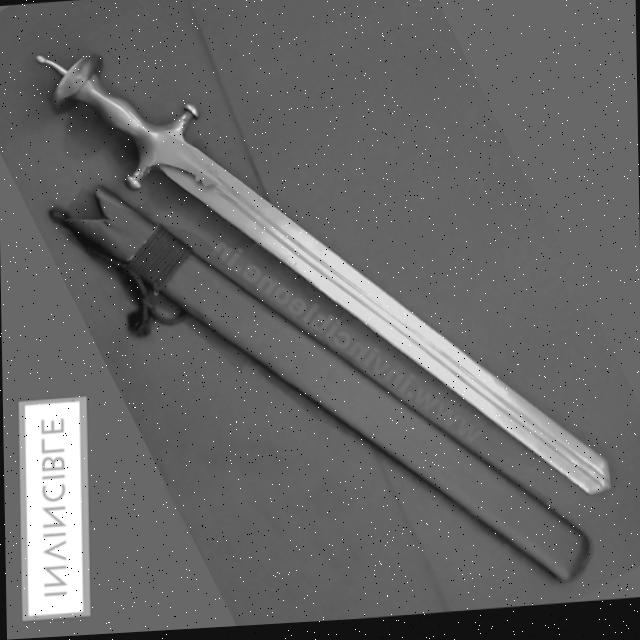knife: (46, 22, 609, 629)
